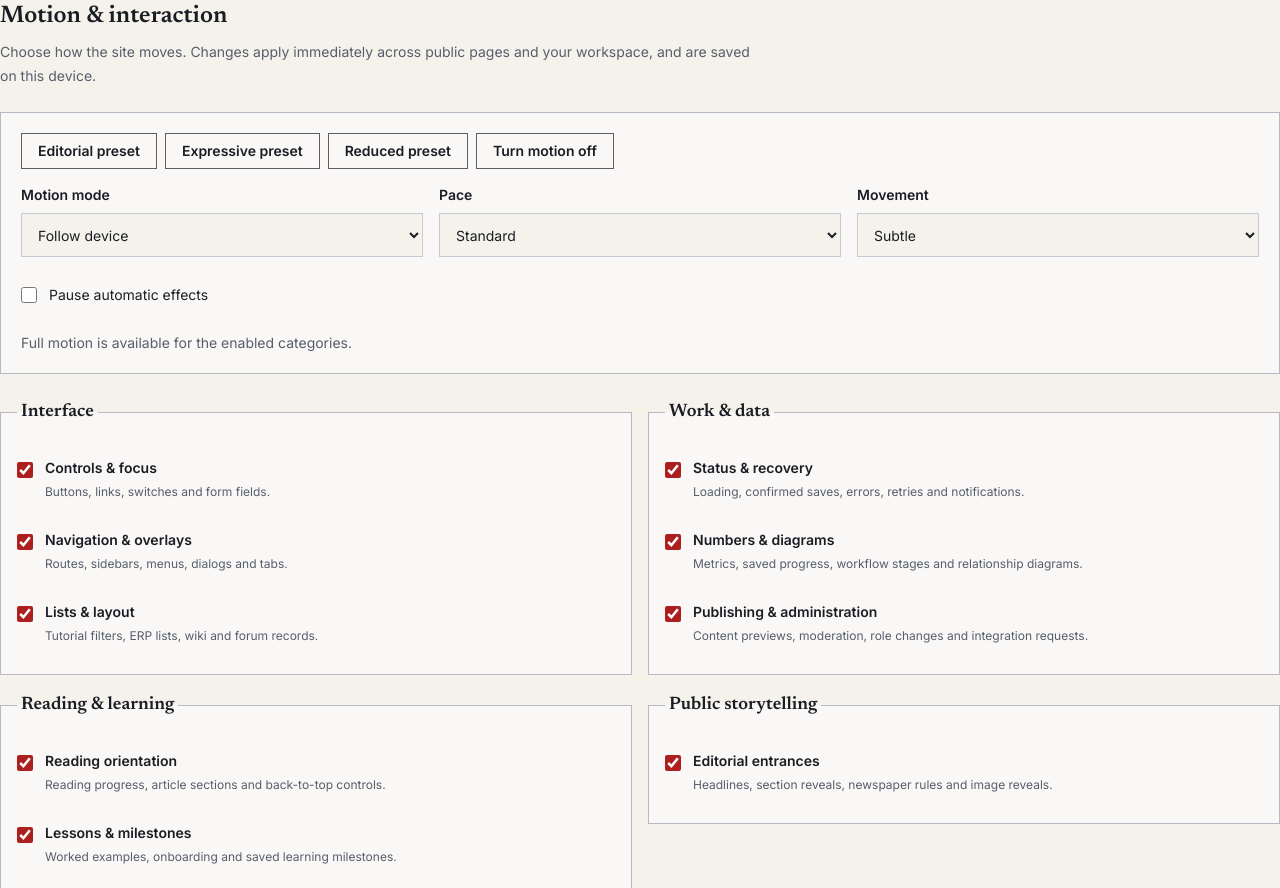
organized personal motion settings › keeps controls usable and reports session-only choices when storage rejects a write
Select "Off" in the dropdown labelled "Motion mode" at x=222, y=235, box [21, 213, 423, 257]
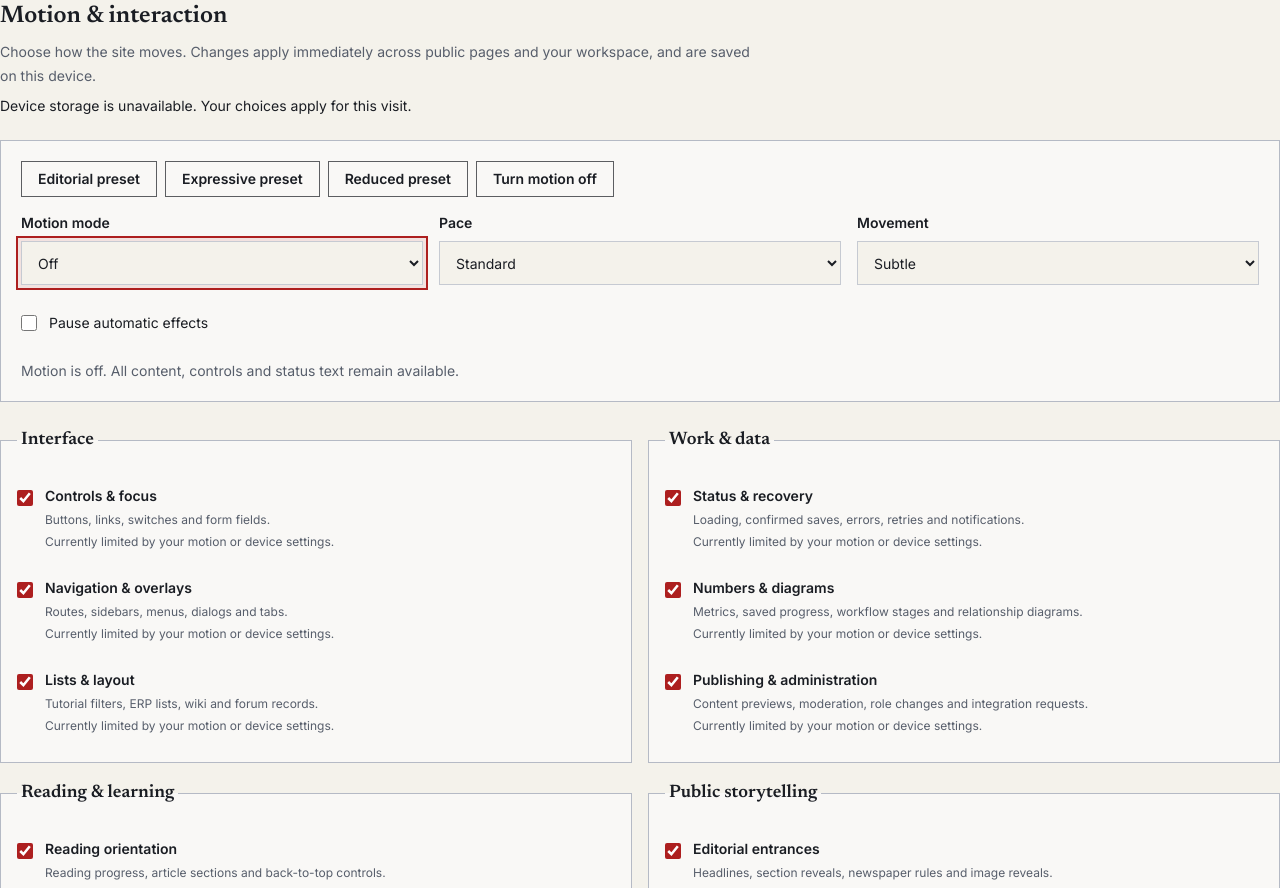
Result: the text "Device storage is unavailable. Your choices apply for this visit." is shown at [0, 97, 412, 114]
